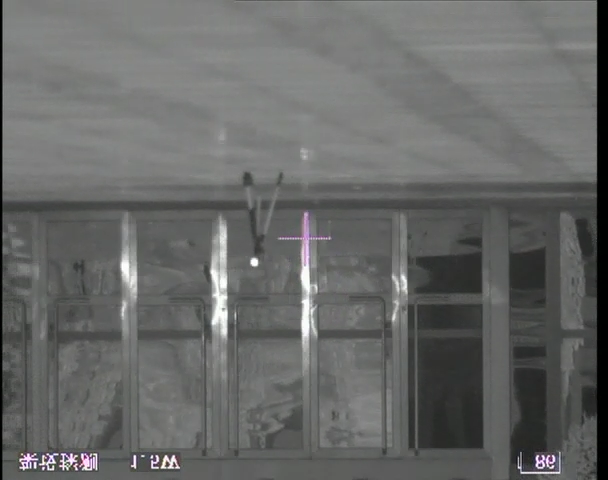my: (249, 256, 260, 268)
